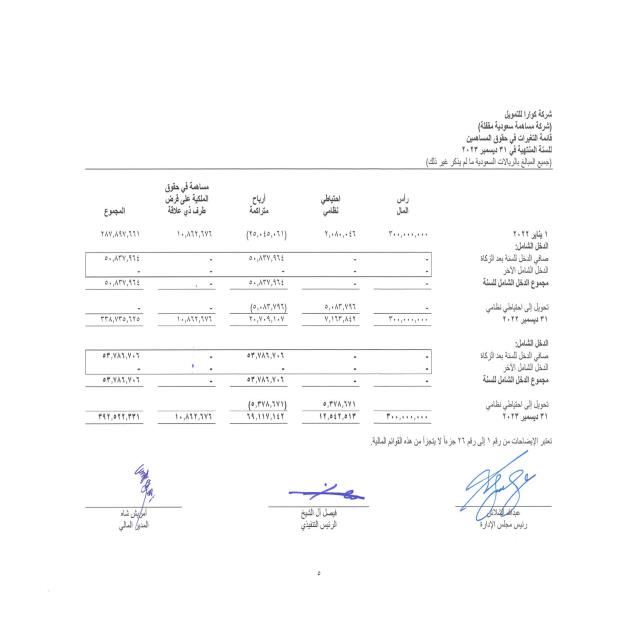table: (69, 193, 451, 424)
